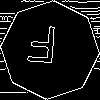F: (25, 25, 59, 73)
